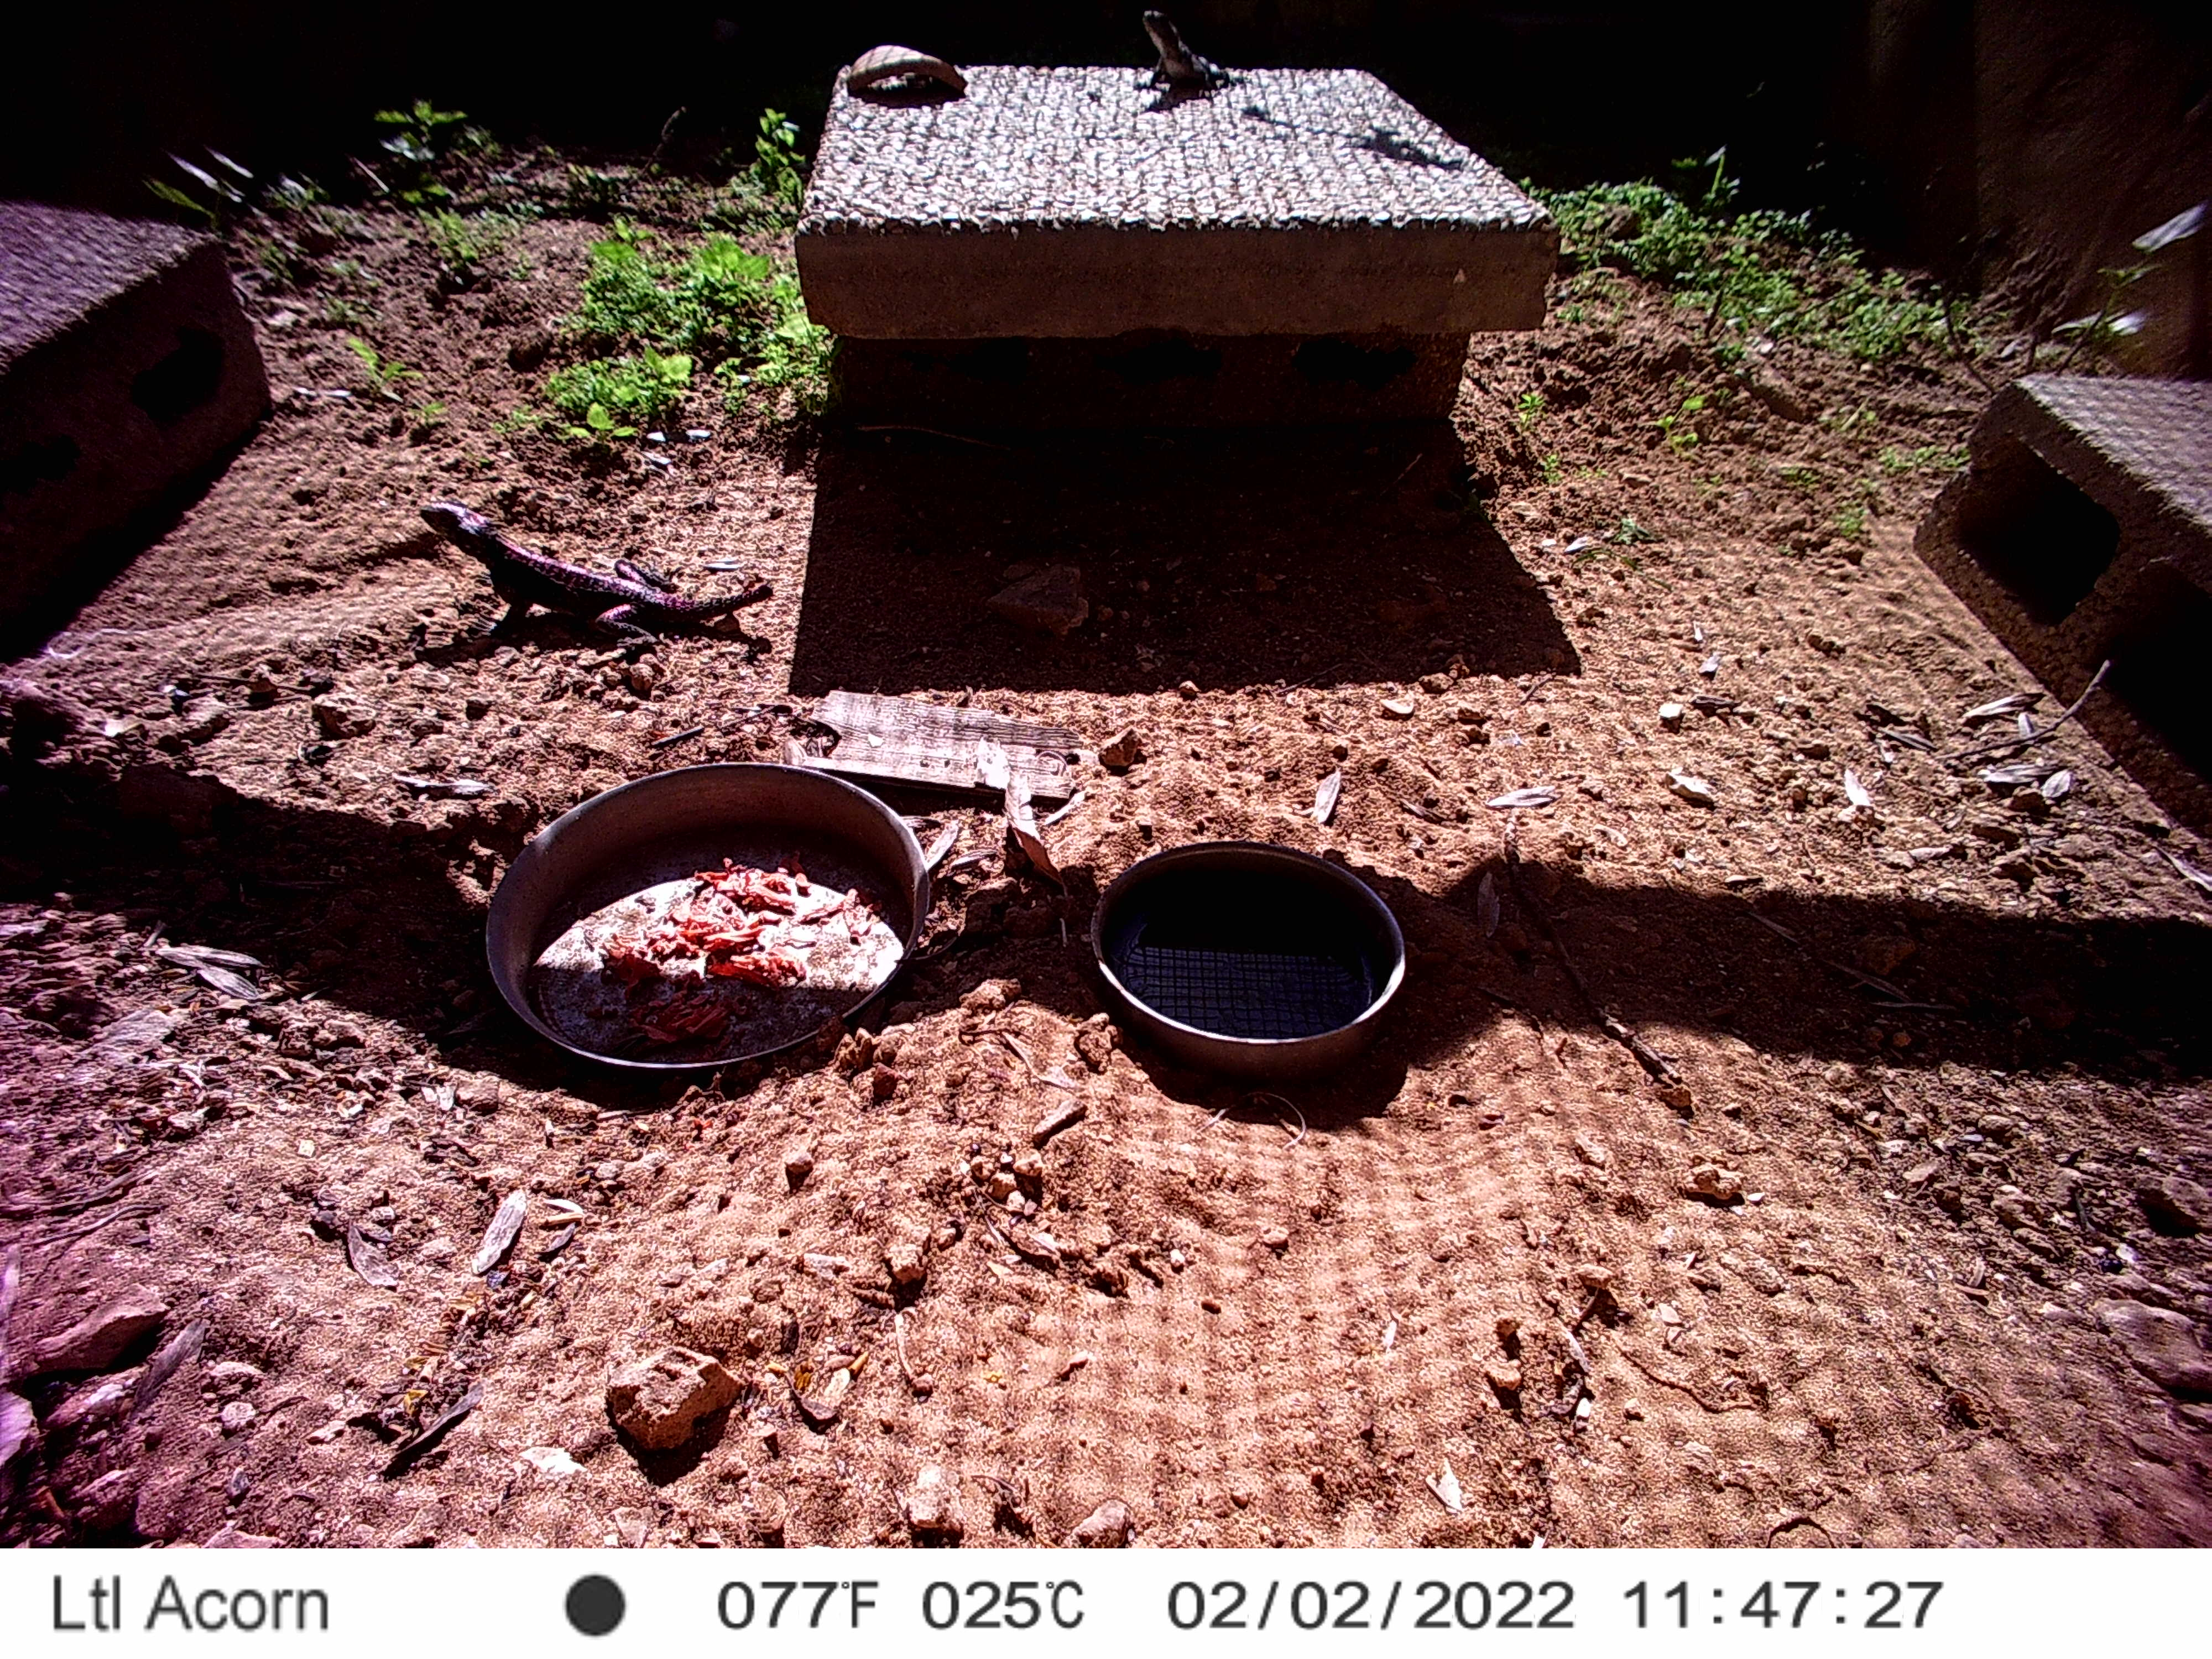lizard: (1148, 864, 1641, 1127)
